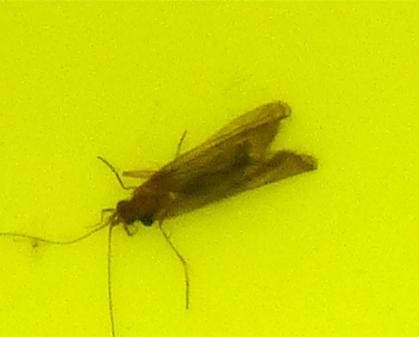Plecoptera: (100, 100, 319, 237)
